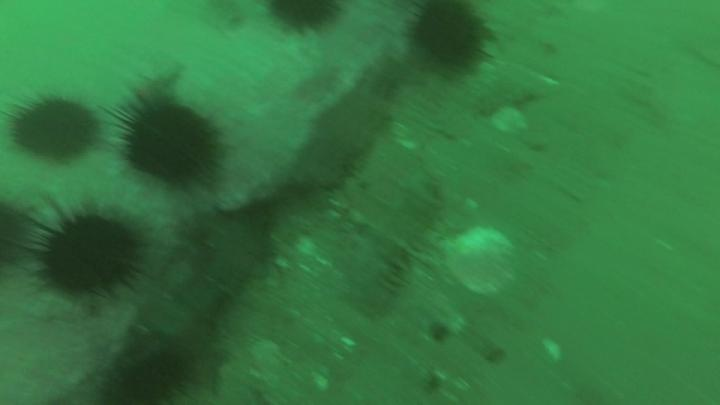echinus: (40, 215, 137, 292), (126, 104, 215, 181), (96, 346, 200, 405), (13, 102, 97, 162), (413, 10, 484, 72), (266, 1, 339, 30)
holothurian: (356, 176, 442, 318)
scallop: (451, 227, 518, 296)
